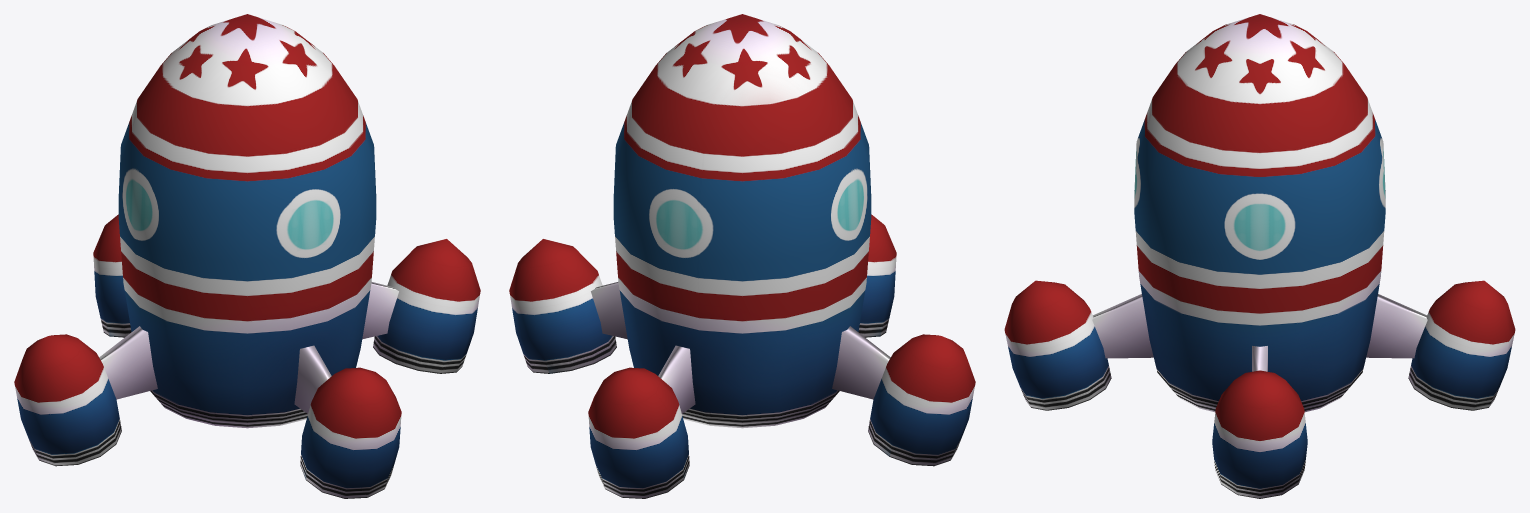
3 views of the same model, side by side, from view 1: azimuth 30°, elevation 25°; view 2: azimuth 150°, elevation 25°; view 3: azimuth 270°, elevation 25° (orthographic). The views are drawn at different scales.
Parts seen in each view (by area): view 1: S015; view 2: S015; view 3: S015.
Boxes of the visible parts, x1=… form: S015: x1=14, y1=14, x2=480, y2=498; S015: x1=509, y1=14, x2=975, y2=498; S015: x1=1004, y1=14, x2=1515, y2=498.
Bounding box in the file's own units: 89.96 × 74.94 × 89.96.
1 material, 1 textured.
